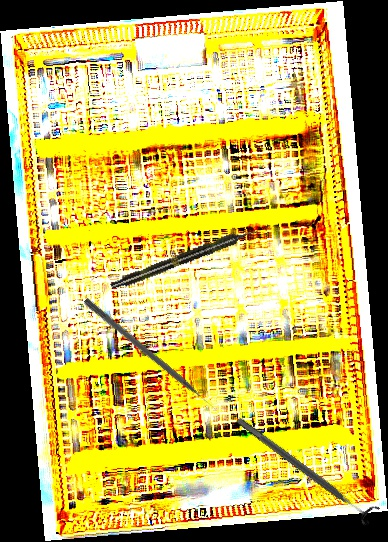Fixation Ring: (230, 409, 381, 528)
Handpiece: (108, 224, 261, 293)
Pusher: (81, 297, 219, 414)
